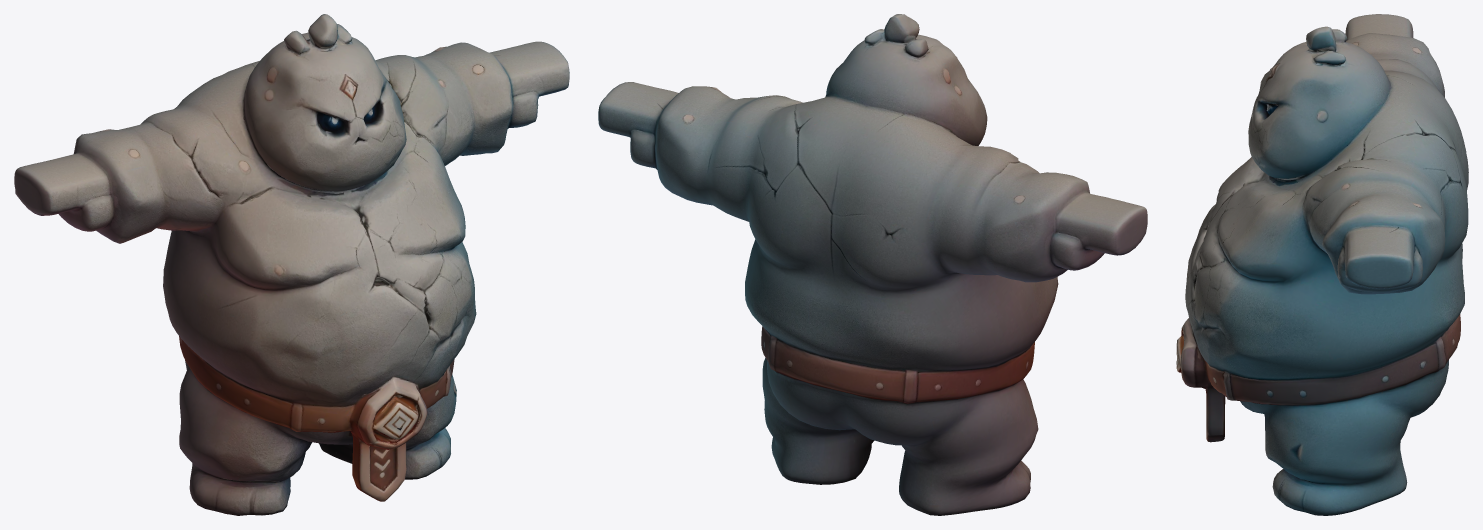
The model's file is jorge-celada-personaje-01.glb.
3 renders of one model, left to right at view 1: azimuth 30°, elevation 25°; view 2: azimuth 150°, elevation 25°; view 3: azimuth 270°, elevation 25°, orthographic. The views are drawn at different scales.
Visible parts, largest first — view 1: tripo_node_593c46c2; view 2: tripo_node_593c46c2; view 3: tripo_node_593c46c2.
Boxes of the visible parts, <box> form: tripo_node_593c46c2: <box>14,14,569,515</box>; tripo_node_593c46c2: <box>598,14,1147,515</box>; tripo_node_593c46c2: <box>1176,14,1468,515</box>.
Size of the model in its own units: 0.9997 by 0.8372 by 0.5086.
1 material, 1 textured.
